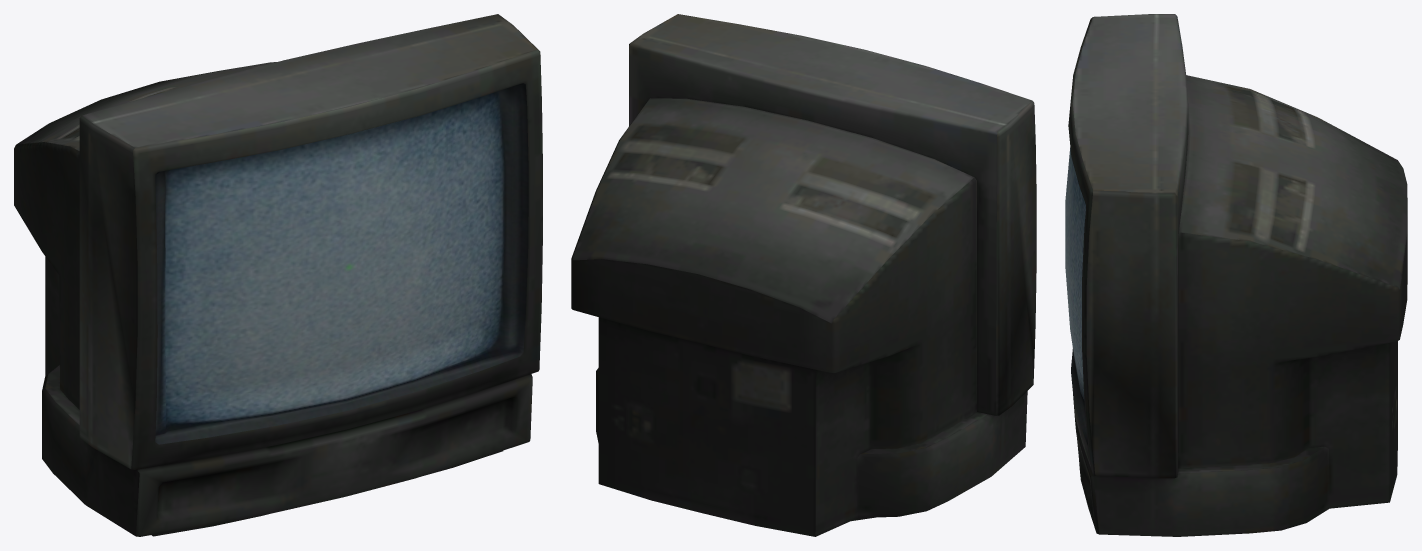
File: seperated___television.glb
3 renders of one model, left to right at view 1: azimuth 30°, elevation 25°; view 2: azimuth 150°, elevation 25°; view 3: azimuth 270°, elevation 25°, orthographic. The views are drawn at different scales.
Visible parts, largest first — view 1: Object_6, Object_4; view 2: Object_6; view 3: Object_6, Object_4.
Part boxes in pixels (x1,y1,x2,y2): Object_6: (14,14,542,536); Object_4: (155,83,528,444); Object_6: (571,14,1036,536); Object_6: (1068,14,1407,536); Object_4: (1065,148,1087,445).
Bounding box in the file's own units: 0.4064 × 0.3702 × 0.3245.
Materials: 2 (2 with a texture image).
